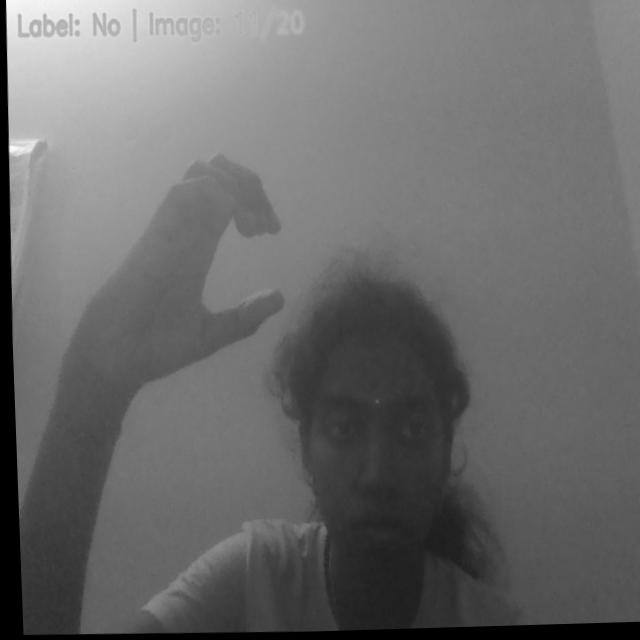No: (84, 135, 290, 390)
